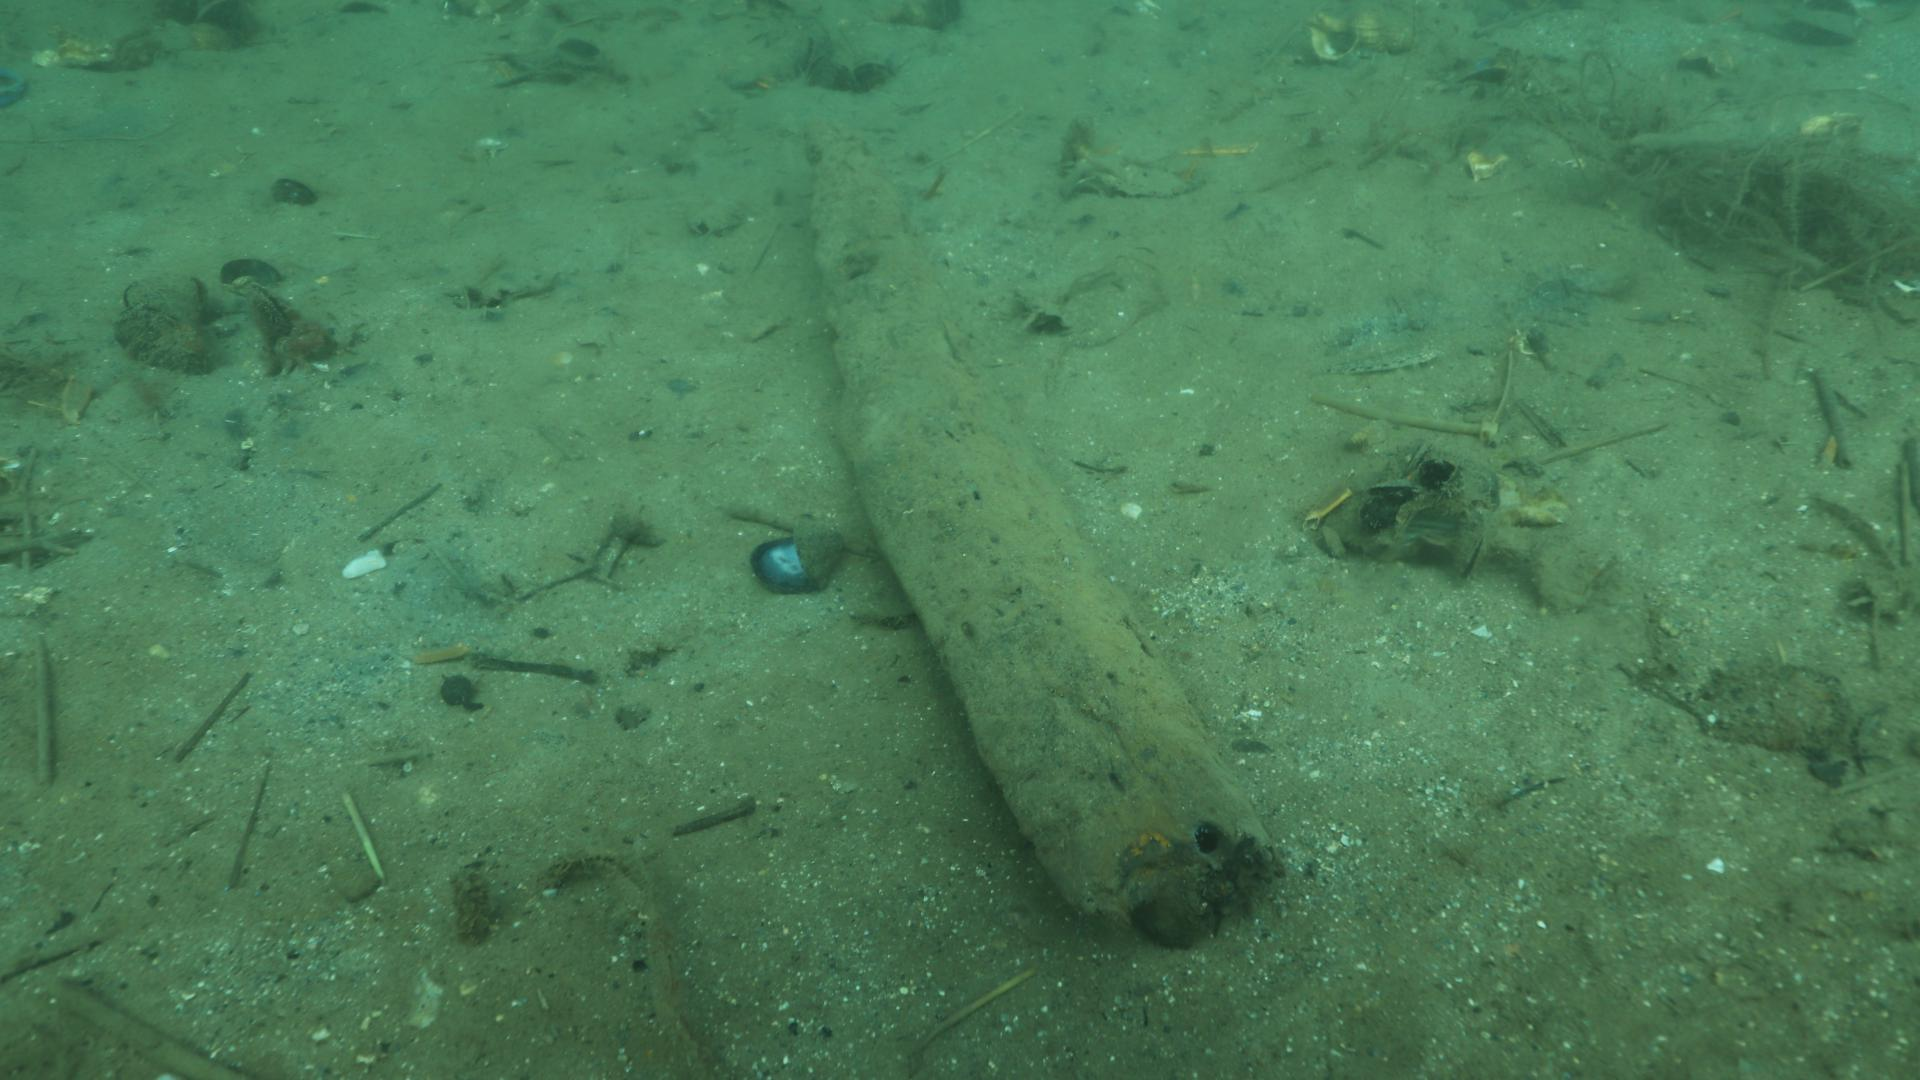wood: (799, 113, 1288, 952)
